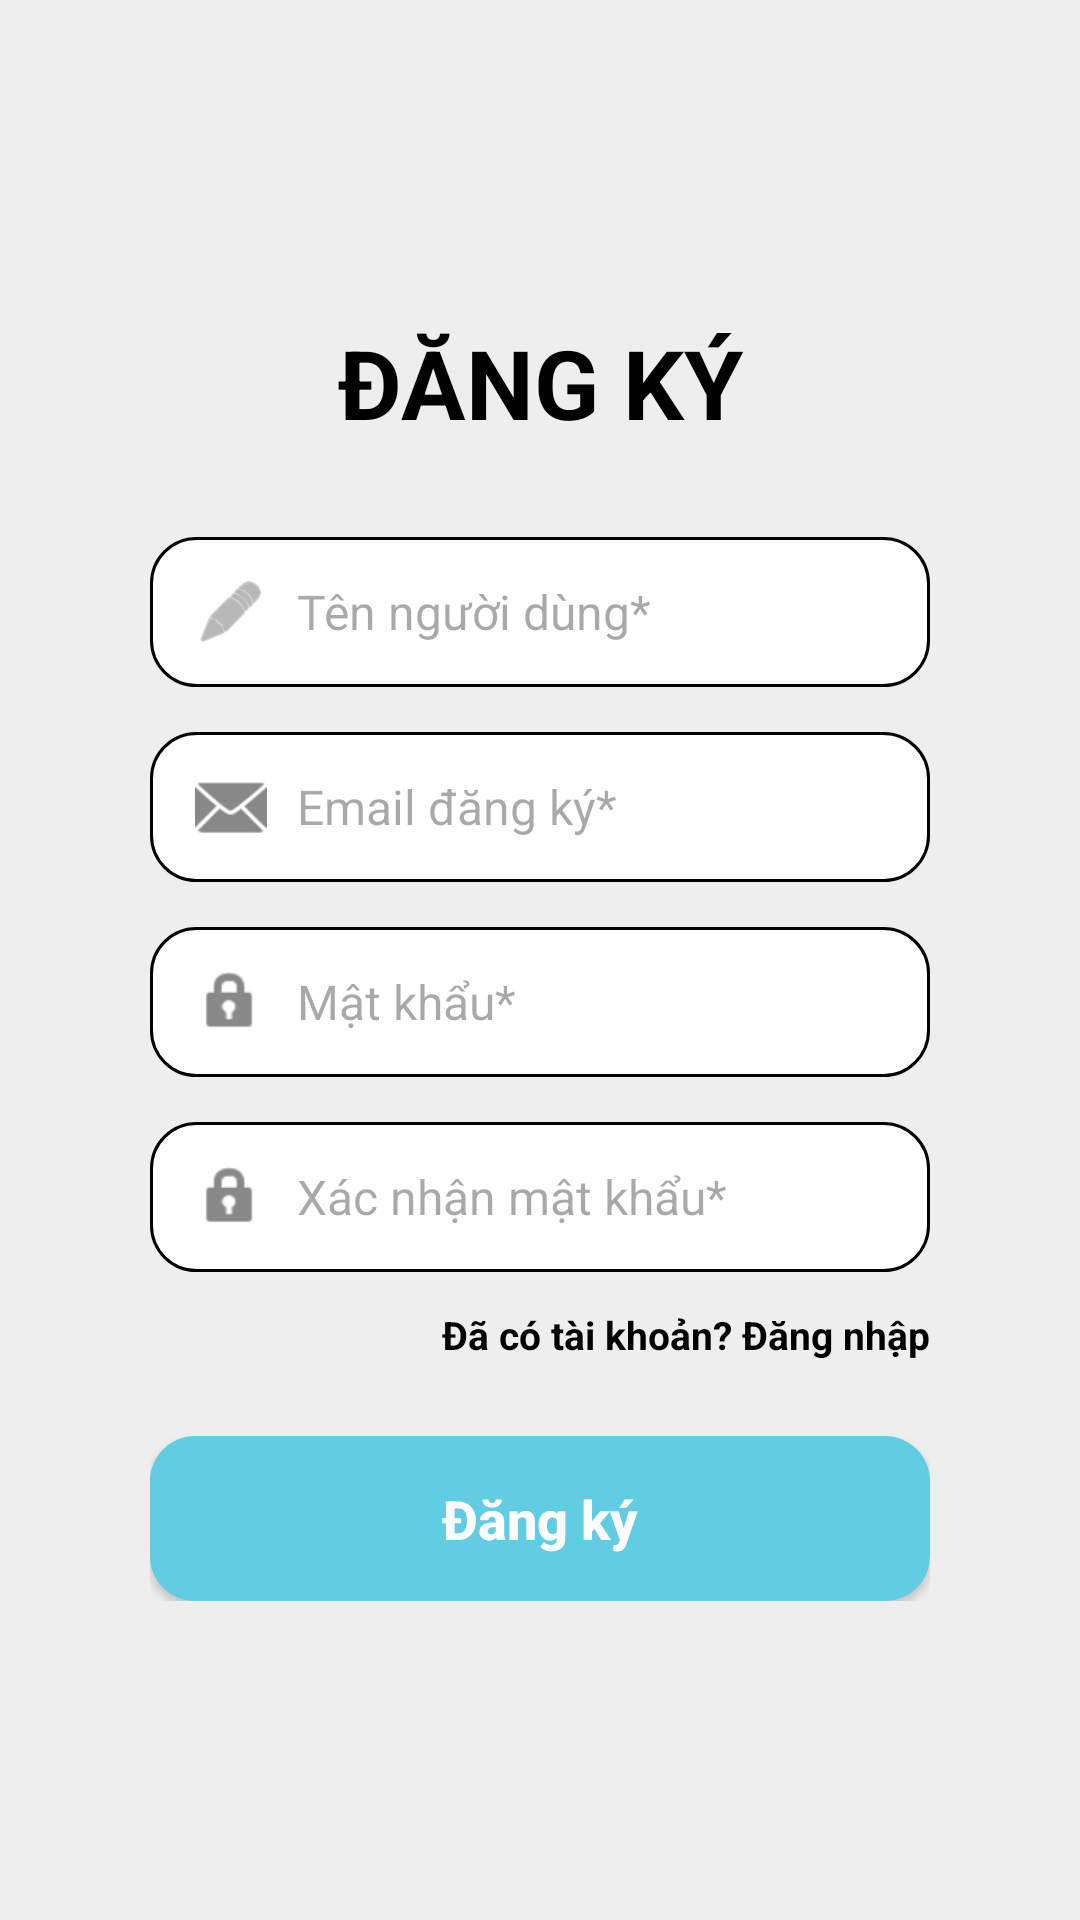

Icons on this 1080w x 1920h Android screen, each with its box as [x1, y1, x2, y2]:
edit: [200, 581, 261, 642]
lock idle: [206, 972, 253, 1027], [206, 1167, 253, 1222]
